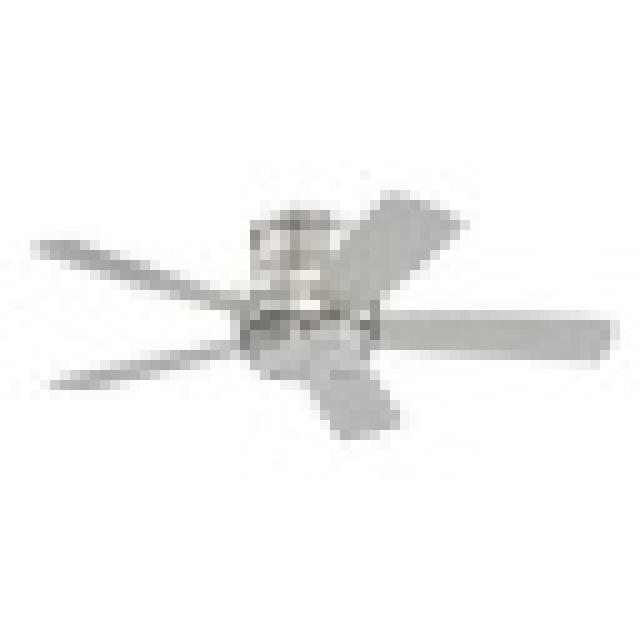fan_off: (47, 200, 606, 439)
